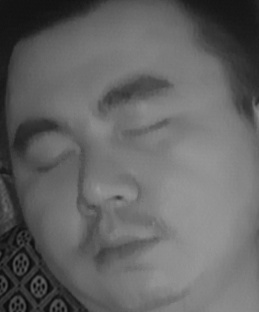blink: (119, 109, 171, 145), (34, 143, 76, 177)
mouth: (83, 218, 157, 273)
